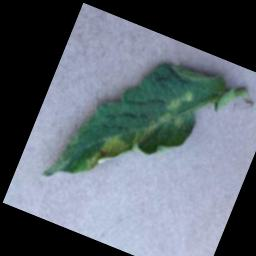Leaf_Mold: (83, 124, 136, 183)
